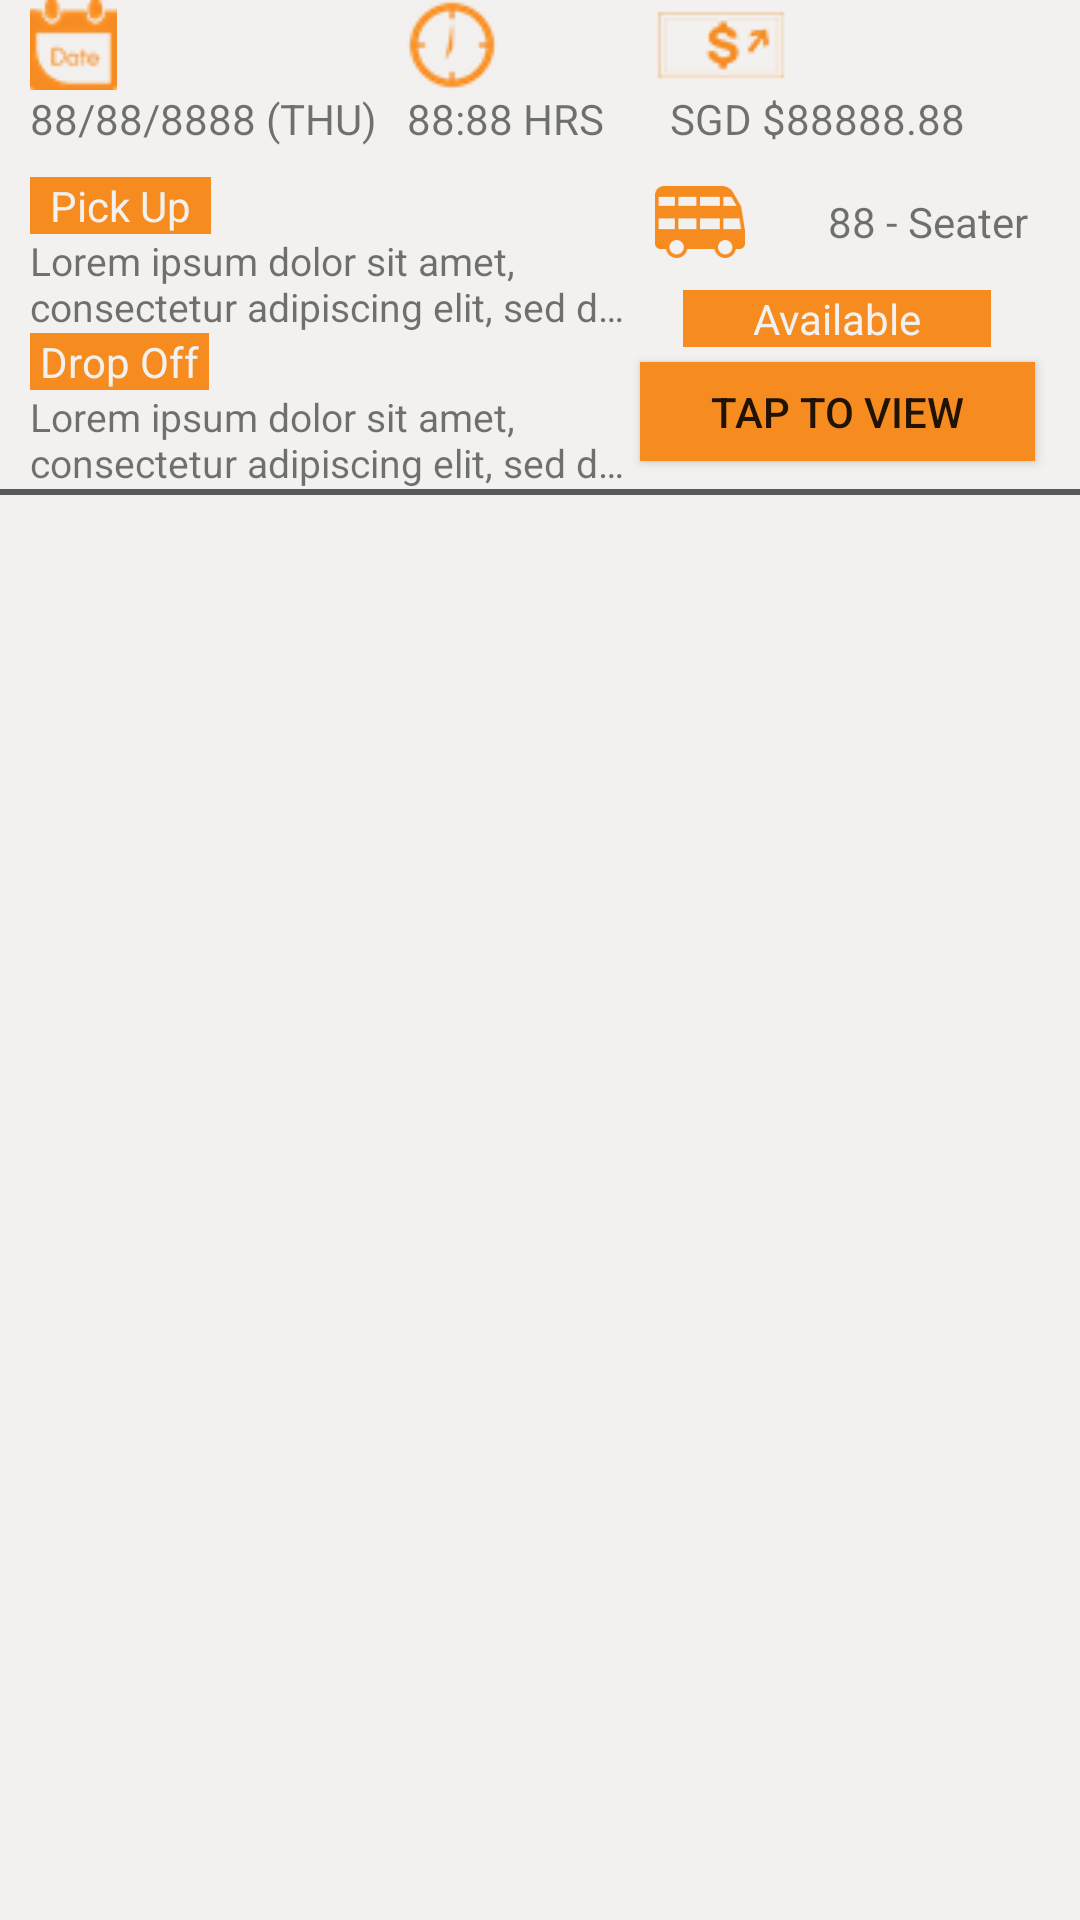

Point at icon controls on the screen. Image size 1080px x 1920px, points as (x=x, y=y).
buscapacity: (x=700, y=222)
date signage: (x=73, y=45)
time signage: (x=452, y=45)
